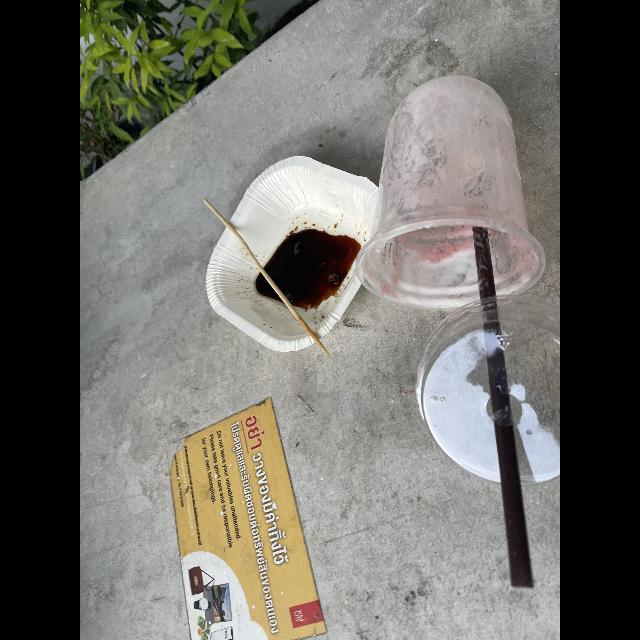cardboard_bowl: (195, 150, 385, 358)
plastic_cup: (362, 67, 546, 309)
plastic_cup_lid: (406, 282, 560, 500)
stick: (201, 200, 353, 370)
straw: (463, 219, 542, 605)
